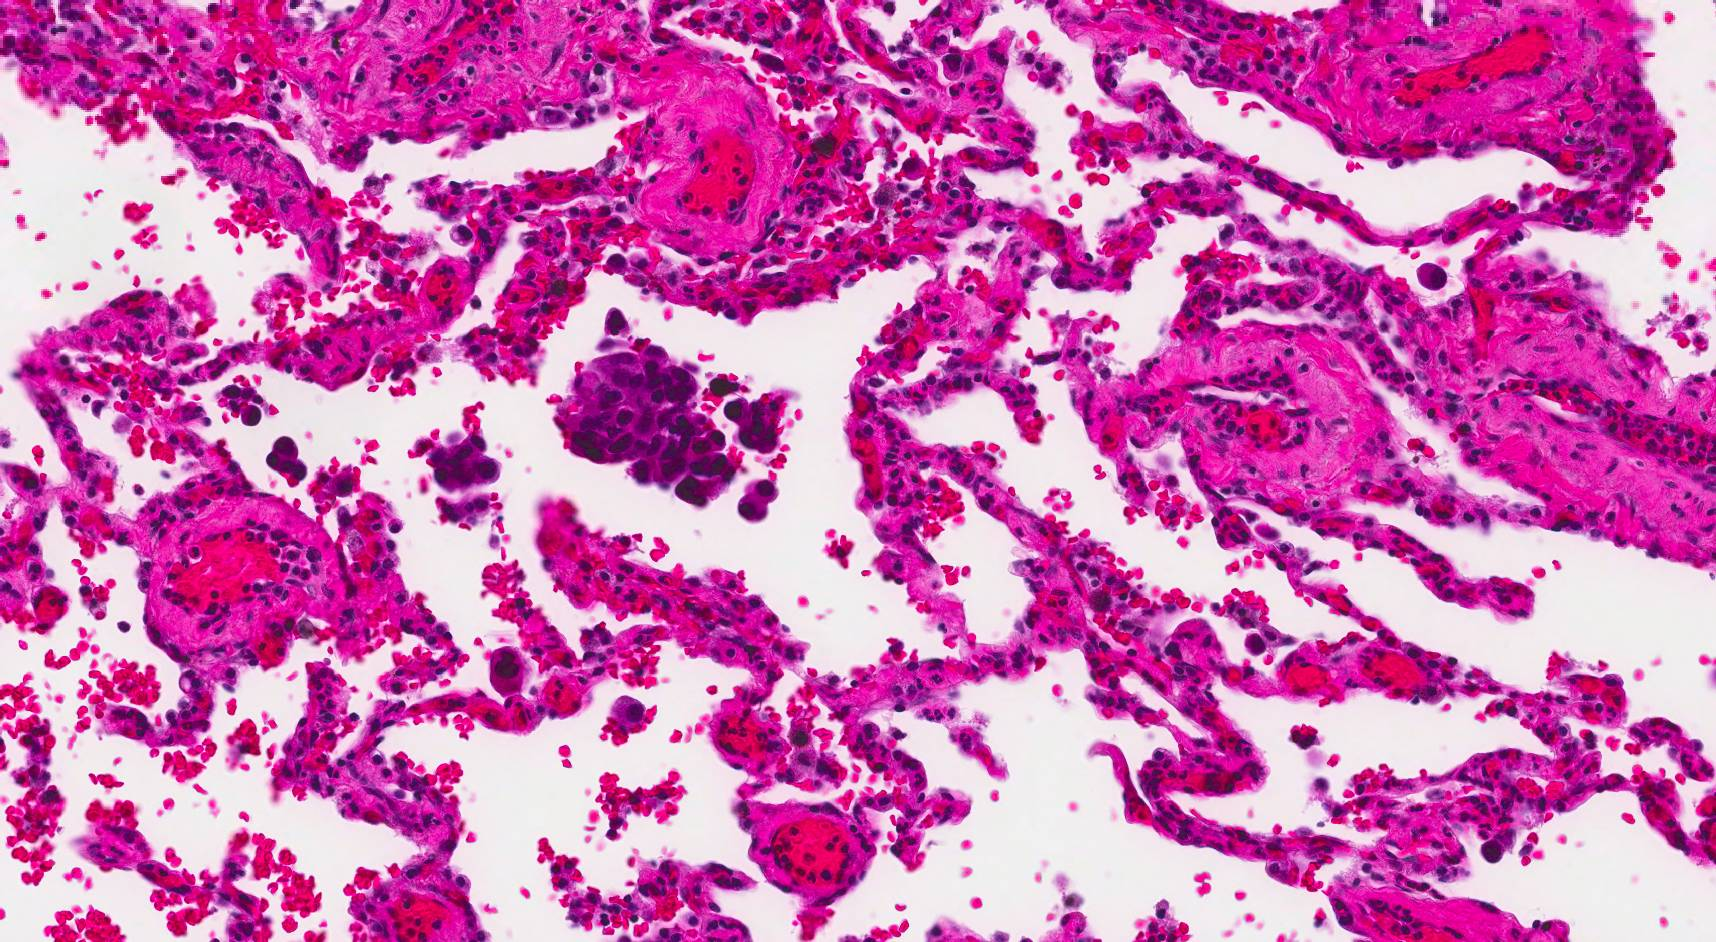stas: (552, 344, 735, 506), (424, 436, 505, 488), (724, 398, 787, 450), (263, 437, 307, 483)
